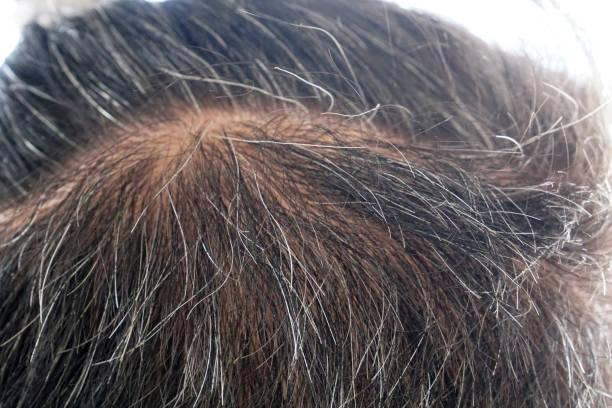grey hair: (160, 58, 343, 115), (122, 127, 189, 253), (102, 278, 201, 348), (268, 255, 352, 336), (201, 123, 369, 163), (314, 141, 392, 223), (380, 165, 472, 226), (428, 241, 489, 312), (34, 221, 65, 344), (206, 289, 231, 408), (400, 336, 435, 408), (438, 339, 472, 408), (369, 293, 388, 386)
low hair density: (96, 91, 354, 171), (241, 164, 411, 275)
